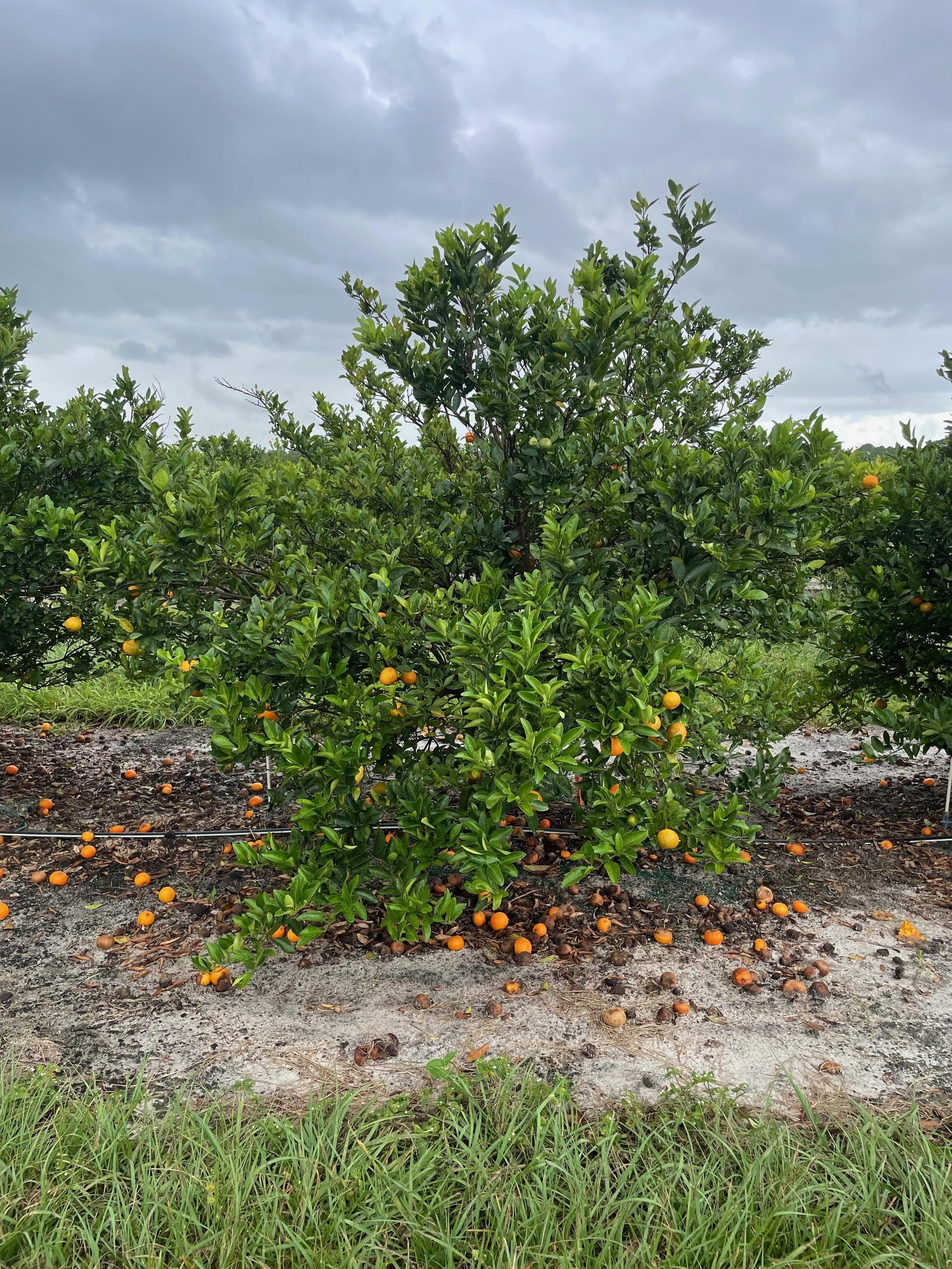fruit_on_ground: (175, 658, 206, 687), (599, 733, 625, 758), (655, 827, 681, 850), (256, 703, 280, 727), (665, 721, 688, 745), (121, 637, 146, 659), (185, 678, 208, 700), (660, 689, 683, 711), (377, 665, 399, 687), (859, 470, 882, 491), (640, 712, 664, 732), (645, 729, 667, 750), (523, 789, 544, 811), (387, 699, 409, 719), (63, 614, 84, 634), (399, 667, 419, 687), (372, 780, 391, 799), (507, 542, 526, 561), (125, 580, 144, 598), (907, 591, 925, 608), (560, 557, 577, 574), (918, 598, 935, 615), (607, 460, 625, 476), (537, 436, 554, 452), (643, 480, 659, 496), (466, 767, 483, 782), (682, 849, 698, 864), (872, 696, 888, 711), (625, 813, 640, 828), (419, 724, 432, 738), (464, 430, 477, 444)
fruit_on_tree: (602, 1005, 628, 1029), (782, 977, 806, 998), (210, 965, 233, 986), (809, 958, 833, 978), (156, 884, 177, 904), (702, 928, 724, 947), (732, 967, 754, 986), (753, 885, 775, 904), (483, 998, 503, 1018), (489, 910, 510, 929), (659, 970, 679, 989), (136, 909, 156, 928), (266, 921, 287, 939), (47, 869, 68, 887), (285, 925, 304, 944), (810, 980, 830, 998), (95, 932, 115, 950), (512, 936, 532, 954), (446, 933, 466, 951), (653, 927, 673, 945), (195, 968, 213, 987), (133, 869, 152, 887), (784, 840, 805, 856), (525, 931, 543, 949), (413, 991, 431, 1009), (672, 998, 691, 1015), (771, 901, 790, 918), (801, 965, 821, 981), (753, 938, 770, 956), (595, 915, 612, 933), (471, 909, 488, 926), (80, 842, 97, 859), (555, 941, 573, 957), (475, 888, 493, 904), (430, 881, 448, 897), (503, 979, 521, 995), (214, 977, 233, 992), (522, 849, 541, 864), (446, 870, 463, 886), (547, 904, 565, 919), (30, 869, 48, 884), (388, 939, 407, 953), (737, 846, 753, 862), (532, 921, 548, 937), (791, 898, 808, 913), (757, 948, 773, 963), (694, 892, 710, 907), (511, 815, 528, 829), (605, 881, 622, 895), (249, 780, 266, 794), (589, 891, 604, 906), (38, 797, 54, 811), (524, 834, 539, 848), (248, 793, 263, 807), (80, 829, 95, 843), (0, 900, 11, 919), (502, 812, 518, 825), (511, 825, 527, 838), (494, 817, 510, 830), (536, 817, 552, 830), (754, 897, 768, 911), (4, 762, 19, 775), (108, 822, 125, 833), (362, 795, 376, 808), (559, 847, 573, 860), (222, 762, 236, 774), (124, 767, 138, 779), (861, 753, 876, 764), (554, 836, 567, 848), (567, 883, 580, 895), (253, 837, 266, 849), (221, 843, 234, 855), (161, 755, 174, 767), (138, 821, 152, 832), (922, 776, 936, 787), (879, 838, 893, 849), (160, 785, 173, 796), (545, 831, 558, 842), (37, 806, 50, 817), (920, 825, 933, 836), (847, 741, 861, 751), (40, 721, 52, 732), (243, 808, 256, 818), (796, 765, 808, 775), (161, 781, 173, 791), (75, 733, 86, 743), (184, 752, 194, 762), (878, 778, 889, 787)
